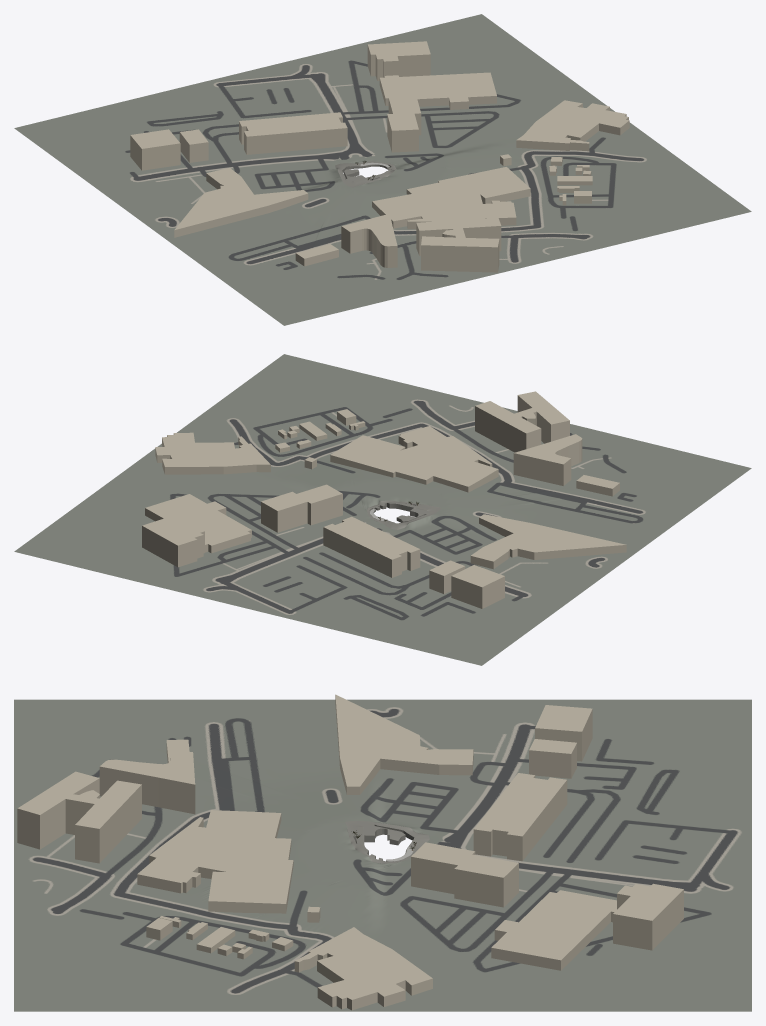
The model's file is nearfield.glb.
3 views of the same model, one above another, from view 1: azimuth 30°, elevation 25°; view 2: azimuth 150°, elevation 25°; view 3: azimuth 270°, elevation 25° (orthographic). The views are drawn at different scales.
Visible parts, largest first — view 1: Farfield_ground, Nearfield_part_010, Nearfield_part_014, Nearfield_part_005, Nearfield_part_008, Nearfield_part_002, Nearfield_part_003, Nearfield_part_004, Nearfield_part_013, Nearfield_part_001, Nearfield_part_006, Nearfield_part_000 (+2 smaller); view 2: Farfield_ground, Nearfield_part_010, Nearfield_part_014, Nearfield_part_002, Nearfield_part_008, Nearfield_part_005, Nearfield_part_003, Nearfield_part_001, Nearfield_part_013, Nearfield_part_004, Nearfield_part_006, Nearfield_part_000 (+3 smaller); view 3: Farfield_ground, Nearfield_part_010, Nearfield_part_014, Nearfield_part_008, Nearfield_part_003, Nearfield_part_002, Nearfield_part_005, Nearfield_part_001, Nearfield_part_004, Nearfield_part_013, Nearfield_part_006, Nearfield_part_000 (+3 smaller).
Boxes of the visible parts, bbox=[...] form: Farfield_ground: bbox=[14, 14, 751, 325]; Nearfield_part_010: bbox=[372, 167, 530, 229]; Nearfield_part_014: bbox=[416, 217, 501, 272]; Nearfield_part_005: bbox=[239, 112, 347, 154]; Nearfield_part_008: bbox=[516, 100, 629, 151]; Nearfield_part_002: bbox=[174, 176, 308, 237]; Nearfield_part_003: bbox=[379, 72, 496, 109]; Nearfield_part_004: bbox=[367, 41, 430, 80]; Nearfield_part_013: bbox=[341, 213, 397, 267]; Nearfield_part_001: bbox=[387, 97, 421, 152]; Nearfield_part_006: bbox=[130, 129, 180, 170]; Nearfield_part_000: bbox=[179, 129, 208, 162]; Farfield_ground: bbox=[14, 354, 751, 665]; Nearfield_part_010: bbox=[330, 426, 498, 492]; Nearfield_part_014: bbox=[475, 391, 569, 452]; Nearfield_part_002: bbox=[479, 514, 626, 559]; Nearfield_part_008: bbox=[155, 432, 270, 474]; Nearfield_part_005: bbox=[323, 516, 420, 577]; Nearfield_part_003: bbox=[145, 494, 251, 553]; Nearfield_part_001: bbox=[261, 484, 342, 532]; Nearfield_part_013: bbox=[513, 434, 582, 485]; Nearfield_part_004: bbox=[142, 517, 204, 567]; Nearfield_part_006: bbox=[451, 565, 504, 608]; Nearfield_part_000: bbox=[429, 560, 465, 593]; Farfield_ground: bbox=[14, 699, 751, 1011]; Nearfield_part_010: bbox=[137, 810, 293, 913]; Nearfield_part_014: bbox=[17, 771, 141, 863]; Nearfield_part_008: bbox=[294, 927, 432, 1010]; Nearfield_part_003: bbox=[491, 890, 616, 970]; Nearfield_part_002: bbox=[335, 694, 446, 794]; Nearfield_part_005: bbox=[473, 773, 567, 861]; Nearfield_part_001: bbox=[411, 842, 518, 907]; Nearfield_part_004: bbox=[613, 883, 683, 950]; Nearfield_part_013: bbox=[99, 752, 195, 814]; Nearfield_part_006: bbox=[535, 705, 592, 761]; Nearfield_part_000: bbox=[529, 739, 576, 778].
Size of the model in its own units: 500 by 27.78 by 500.
9 materials, 4 textured.
